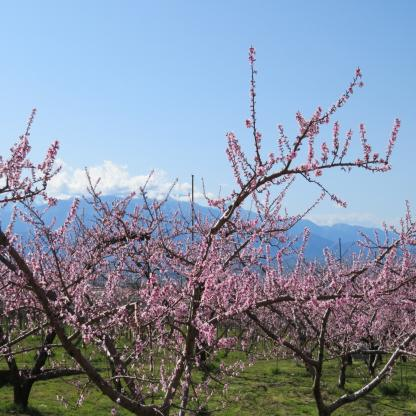Momo: (0, 44, 402, 416), (0, 105, 163, 416), (228, 198, 416, 416)
